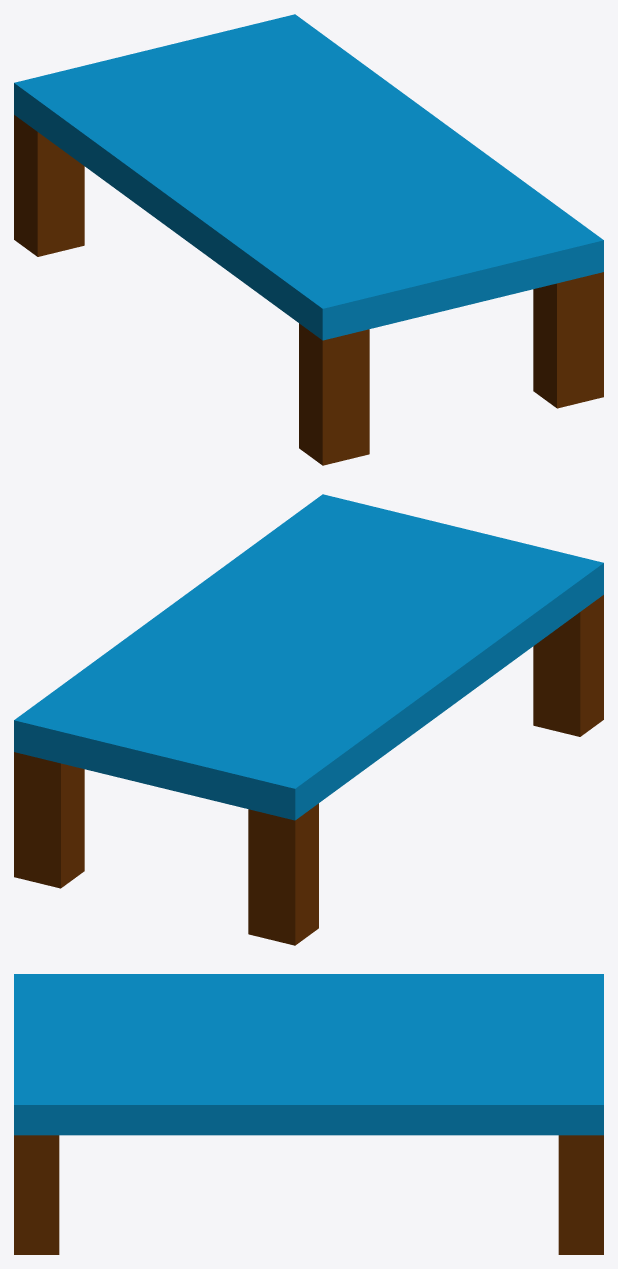
The model's file is lowpoly_table.fbx.
3 renders of one model, top to bottom at view 1: azimuth 30°, elevation 25°; view 2: azimuth 150°, elevation 25°; view 3: azimuth 270°, elevation 25°, orthographic. The views are drawn at different scales.
Parts seen in each view (by area): view 1: Cube; view 2: Cube; view 3: Cube.
Boxes of the visible parts, box(x1,y1,x2,y2) form: Cube: box(14, 14, 603, 465); Cube: box(14, 494, 603, 945); Cube: box(14, 974, 603, 1254).
Bounding box in the file's own units: 268 × 143 × 509.
